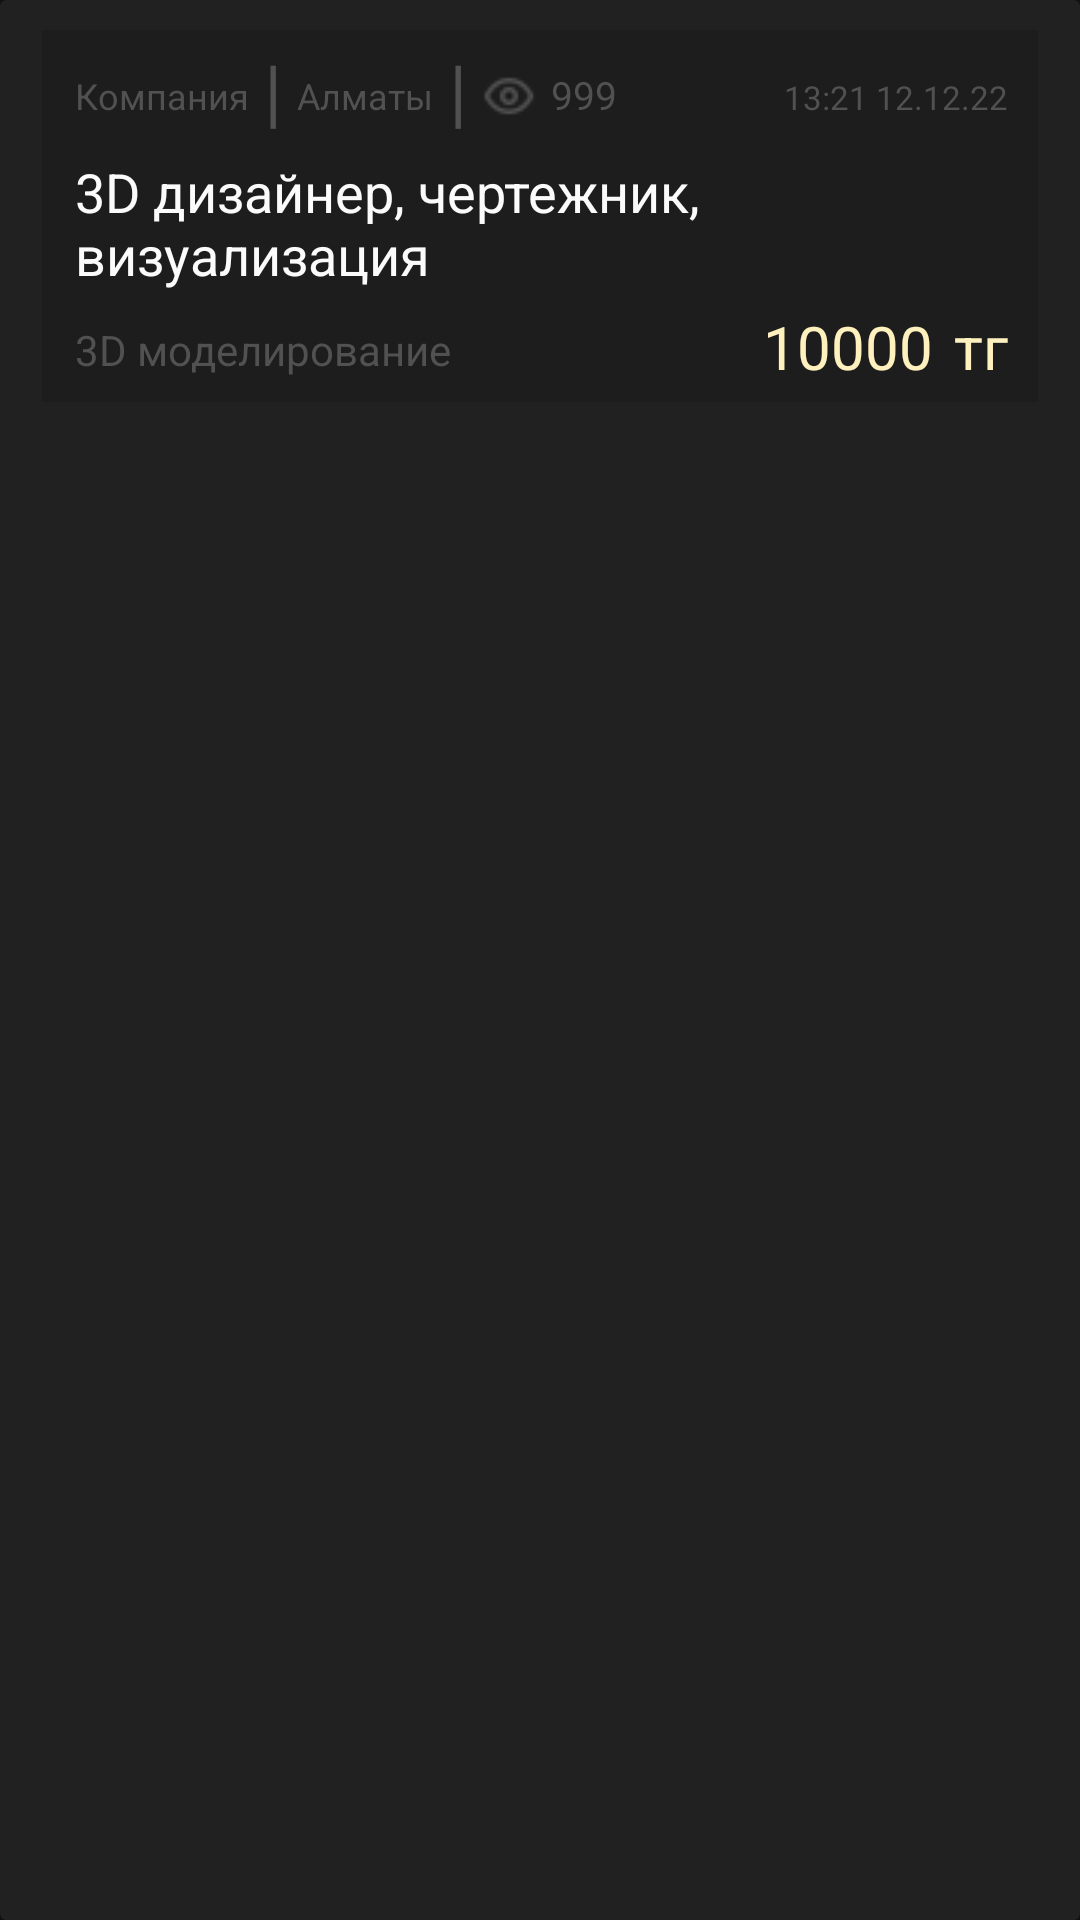

Icon bounding boxes for this 1080 x 1920 phone screenshot, format (x1, y1, x2, y2):
open eye: (485, 78, 533, 114)
